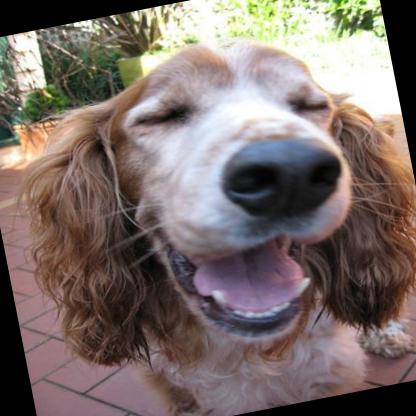Welsh_springer_spaniel: (0, 4, 416, 416)
